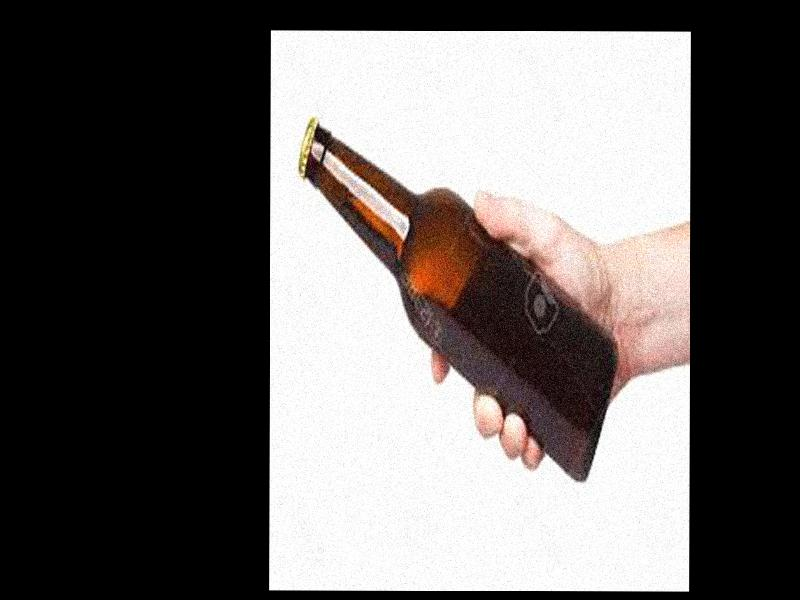Beer: (298, 116, 616, 478)
